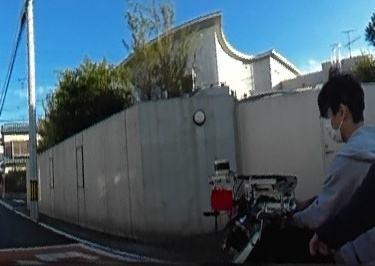person: (293, 70, 375, 262)
